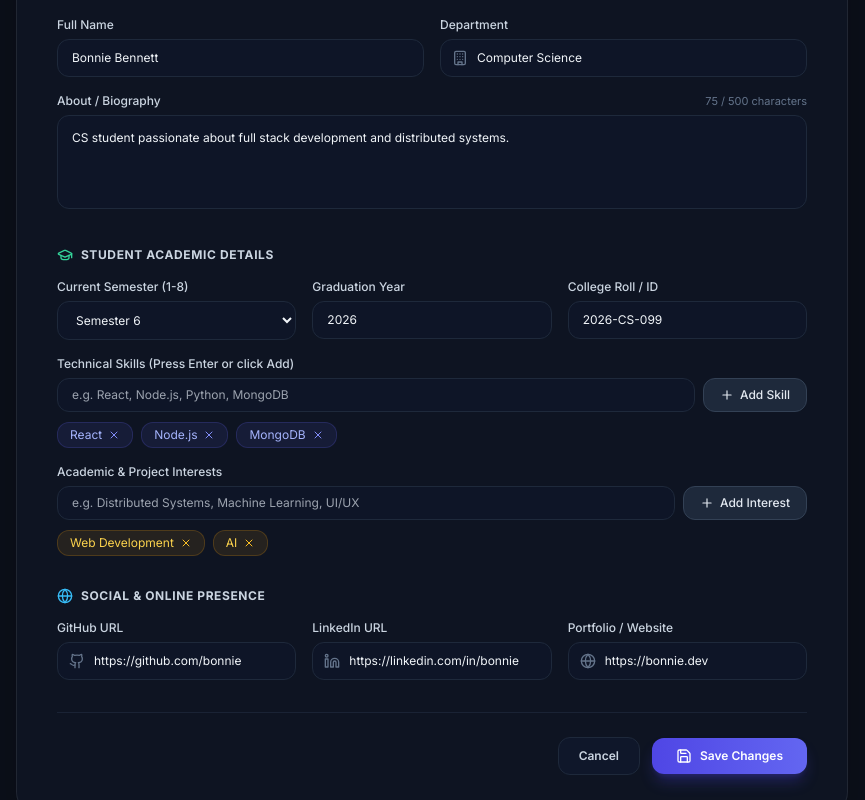
Test: Client Profile Views & Editing (Level 2) › renders EditProfilePage with form inputs and supports adding skills
(page scrolled)
Expected: the field showing "Bonnie Bennett" below "Full Name" is shown, [57,38,424,76]
Type "Docker" into the field with placeholder "e.g. React, Node.js, Python, MongoDB".
click(376, 395); type("Docker")  # box [57,378,695,412]
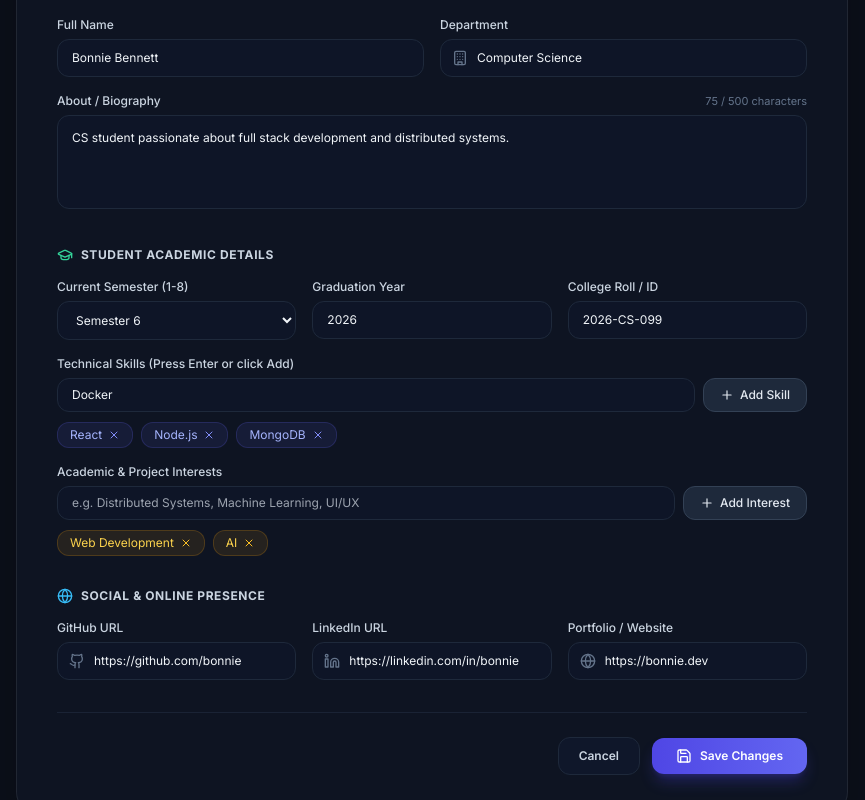
Click the button "Add Skill".
click(755, 395)  # box [703,378,807,412]
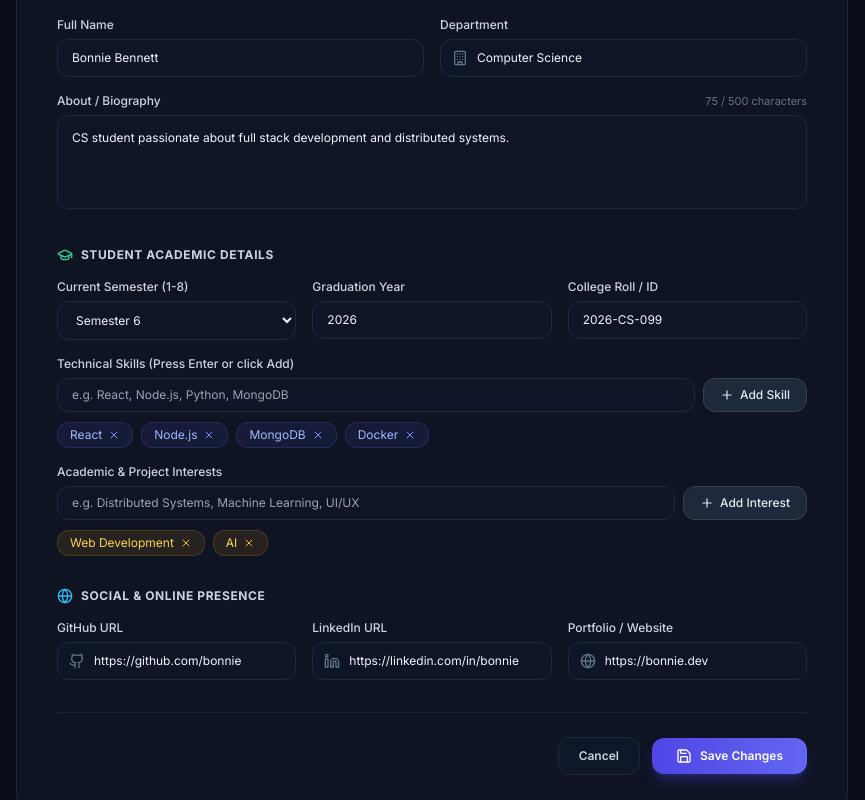
Now the text "Docker" is shown, box [358,427,398,443]
